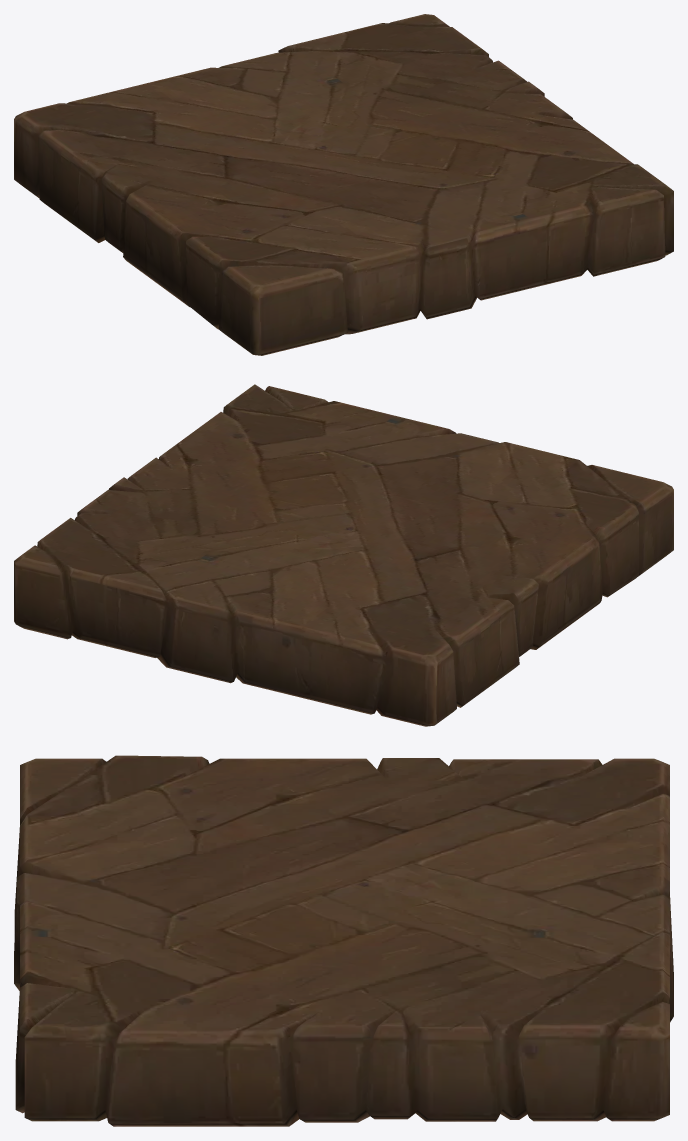
3 views of the same model, one above another, from view 1: azimuth 30°, elevation 25°; view 2: azimuth 150°, elevation 25°; view 3: azimuth 270°, elevation 25° (orthographic). The views are drawn at different scales.
Bounding box in the file's own units: 5.09 × 0.8559 × 5.1.
1 material, 1 textured.
